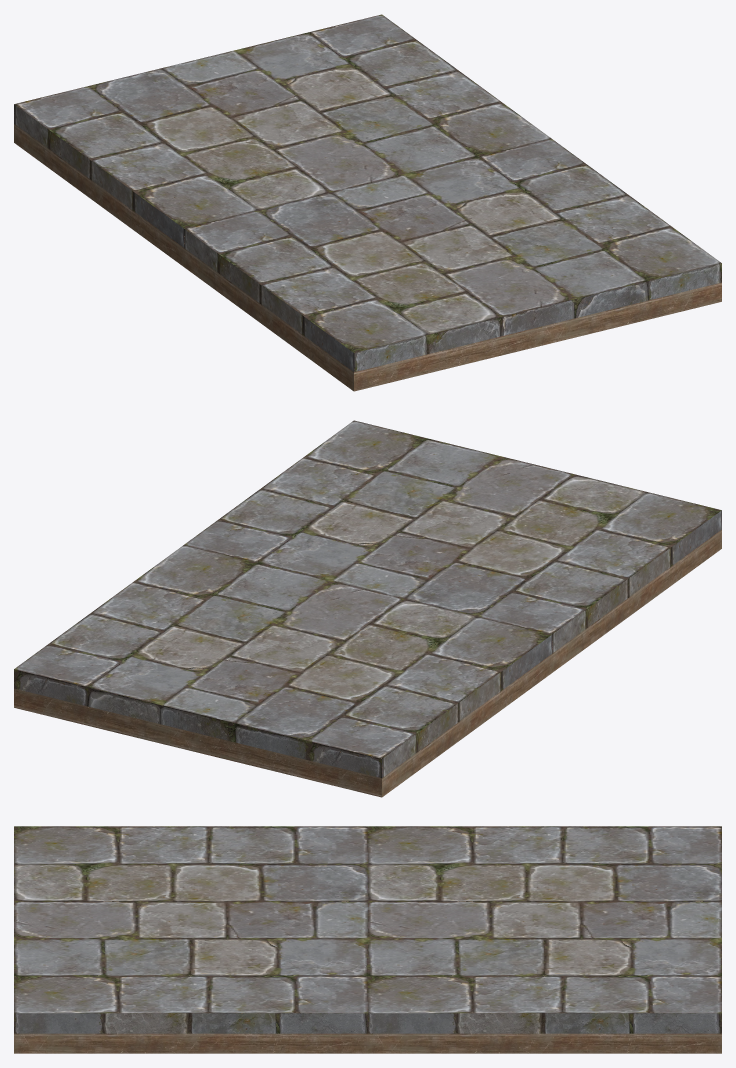
3 renders of one model, top to bottom at view 1: azimuth 30°, elevation 25°; view 2: azimuth 150°, elevation 25°; view 3: azimuth 270°, elevation 25°, orthographic. The views are drawn at different scales.
Visible parts, largest first — view 1: SM_Greathall_Floor_8x5_01_LOD0; view 2: SM_Greathall_Floor_8x5_01_LOD0; view 3: SM_Greathall_Floor_8x5_01_LOD0.
Boxes of the visible parts, x1,y1,x2,y2 form: SM_Greathall_Floor_8x5_01_LOD0: [14, 14, 721, 391]; SM_Greathall_Floor_8x5_01_LOD0: [14, 420, 721, 797]; SM_Greathall_Floor_8x5_01_LOD0: [14, 826, 721, 1053].
Bounding box in the file's own units: 5 × 0.5 × 8.
2 materials, 2 textured.
